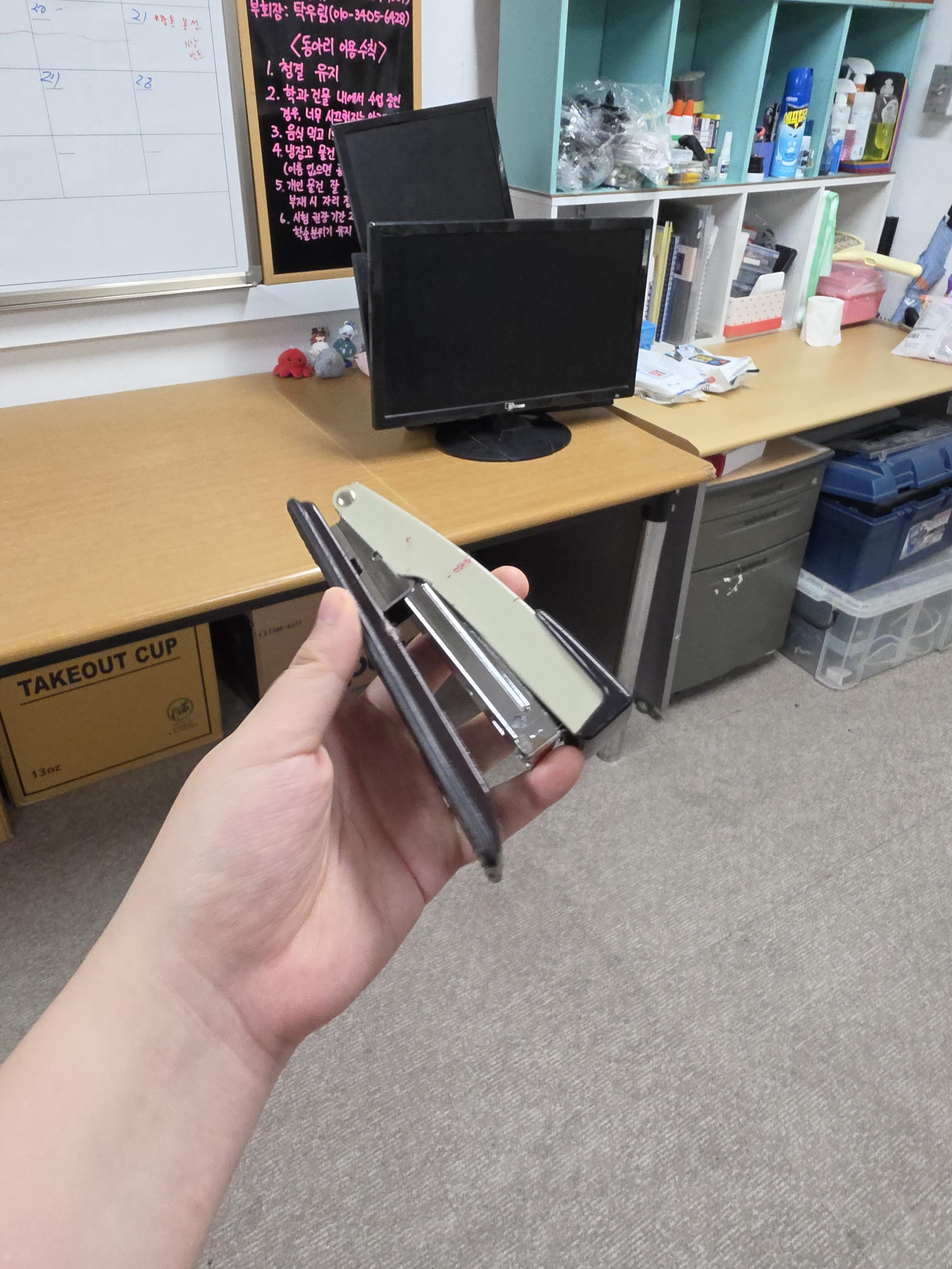stapler: (286, 481, 633, 883)
tissue: (724, 270, 786, 338), (804, 295, 843, 349)
